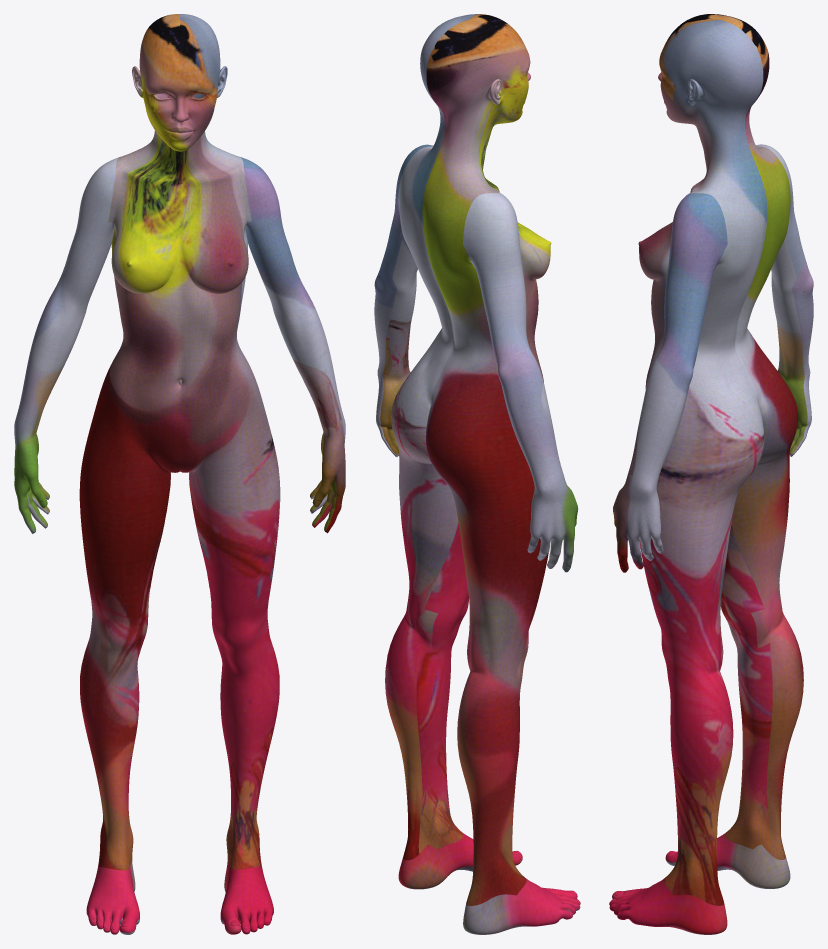
Rendered from Woman_Body.001.gltf.
3 views of the same model, side by side, from view 1: azimuth 30°, elevation 25°; view 2: azimuth 150°, elevation 25°; view 3: azimuth 270°, elevation 25° (orthographic).
Parts seen in each view (by area): view 1: Woman_Body.001; view 2: Woman_Body.001; view 3: Woman_Body.001.
Boxes of the visible parts, box(x1,y1,x2,y2) form: Woman_Body.001: box(14, 14, 345, 934); Woman_Body.001: box(374, 14, 580, 934); Woman_Body.001: box(609, 14, 813, 934).
Size of the model in its own units: 2.71 by 8.74 by 1.84.
1 material, 1 textured.
